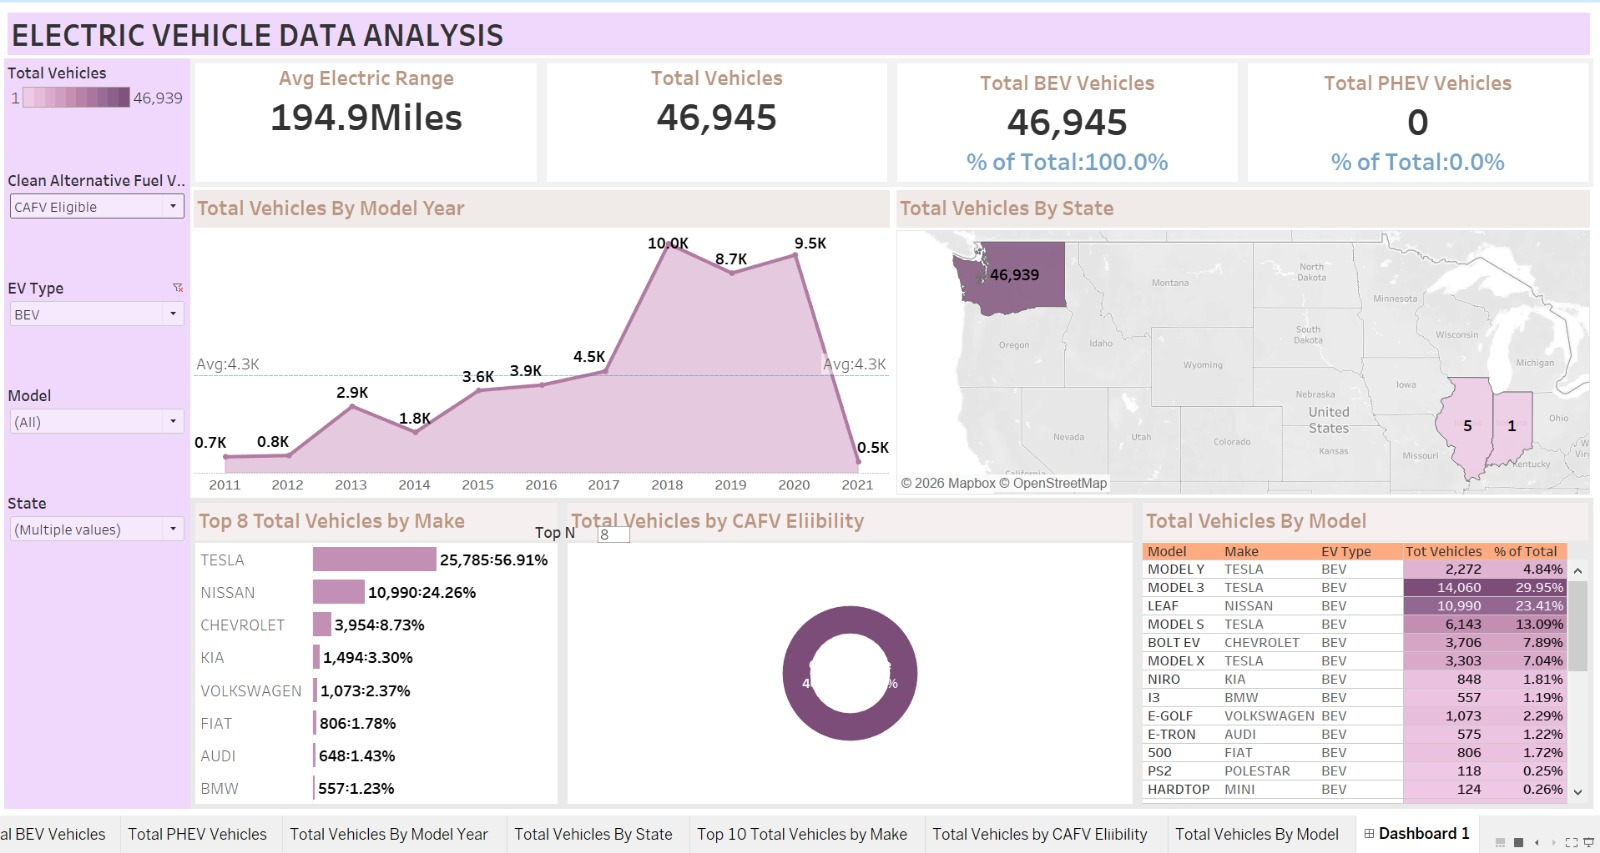

What the dashboard file says about the page in this screenshot:
{"tool":"tableau","page":{"name":"Dashboard 1","canvas":[1000,1000],"units":"permille","ordinal":0},"visuals":[{"type":"title","box":[7.9,19.1,984.3,58.7]},{"type":"legend","title":"Total Vehicles By State","param":"[federated.04u9y5d0gsn2uk17p6tlm0da8m13].[usr:Calculation_1064256949235843072:qk","box":[7.9,78.8,115.2,128.9]},{"type":"worksheet","title":"Avg Electric Range","mark":"Automatic","box":[123,78.8,217.5,367.5]},{"type":"worksheet","title":"Total Vehicles","mark":"Automatic","box":[340.6,78.8,217.5,367.5]},{"type":"worksheet","title":"Total BEV Vehicles","mark":"Automatic","box":[558.1,78.8,217.5,367.5]},{"type":"worksheet","title":"Total PHEV Vehicles","mark":"Automatic","box":[775.6,78.8,216.5,367.5]},{"type":"filter","title":"Total Vehicles By Model Year","param":"[federated.04u9y5d0gsn2uk17p6tlm0da8m13].[none:Clean Alternative Fuel Vehicle (C","box":[7.9,207.6,115.2,128.9]},{"type":"filter","title":"Total Vehicles By State","param":"[federated.04u9y5d0gsn2uk17p6tlm0da8m13].[none:Electric Vehicle Type:nk]","box":[7.9,336.5,115.2,128.9]},{"type":"worksheet","title":"Total Vehicles By Model Year","mark":"Area","rows":["Calculation_1064256949235843072","Calculation_1064256949235843072"],"cols":["Model Year"],"box":[123.2,445.4,435.1,267.8]},{"type":"worksheet","title":"Total Vehicles By State","mark":"Multipolygon","box":[558.2,445.4,433.9,267.8]},{"type":"filter","title":"Total Vehicles By State","param":"[federated.04u9y5d0gsn2uk17p6tlm0da8m13].[none:Model:nk]","box":[7.9,465.4,115.2,128.9]},{"type":"filter","title":"Total Vehicles By State","param":"[federated.04u9y5d0gsn2uk17p6tlm0da8m13].[none:State:nk]","box":[7.9,594.3,115.2,128.9]},{"type":"parameter","param":"[Parameters].[Parameter 1]","box":[335.2,641.2,60.8,49.2]},{"type":"worksheet","title":"Top 10 Total Vehicles by Make","mark":"Automatic","rows":["Make"],"cols":["Calculation_1064256949235843072"],"box":[123.2,713.1,418.7,267.8]},{"type":"worksheet","title":"Total Vehicles by CAFV Eliibility","mark":"Pie","rows":["Calculation_1064256949284442119","Calculation_1064256949284442119"],"box":[541.9,713.1,9.8,267.8]},{"type":"worksheet","title":"Total Vehicles By Model","mark":"Square","rows":["Model","Make","Electric Vehicle Type"],"box":[551.7,713.1,440.4,267.8]},{"type":"blank","box":[7.9,723.1,115.2,128.9]},{"type":"blank","box":[7.9,852,115.2,128.9]}]}

Visuals, with their boxes on the dashboard's canvas, which has no fixed pixel size, in thousandths of its width and height (x1, y1, x2, y2). These are canvas units, not pixel positions in the 1600x853 screenshot, which may show the page scaled, cropped or inside an application window:
title: box=[8, 19, 992, 78]
"Total Vehicles By State" legend: box=[8, 79, 123, 208]
"Avg Electric Range" worksheet: box=[123, 79, 340, 446]
"Total Vehicles" worksheet: box=[341, 79, 558, 446]
"Total BEV Vehicles" worksheet: box=[558, 79, 776, 446]
"Total PHEV Vehicles" worksheet: box=[776, 79, 992, 446]
"Total Vehicles By Model Year" filter: box=[8, 208, 123, 336]
"Total Vehicles By State" filter: box=[8, 336, 123, 465]
"Total Vehicles By Model Year" worksheet (Area marks): box=[123, 445, 558, 713]
"Total Vehicles By State" worksheet (Multipolygon marks): box=[558, 445, 992, 713]
"Total Vehicles By State" filter: box=[8, 465, 123, 594]
"Total Vehicles By State" filter: box=[8, 594, 123, 723]
parameter: box=[335, 641, 396, 690]
"Top 10 Total Vehicles by Make" worksheet: box=[123, 713, 542, 981]
"Total Vehicles by CAFV Eliibility" worksheet (Pie marks): box=[542, 713, 552, 981]
"Total Vehicles By Model" worksheet (Square marks): box=[552, 713, 992, 981]
blank: box=[8, 723, 123, 852]
blank: box=[8, 852, 123, 981]
